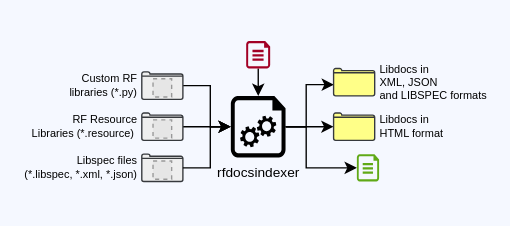
The diagram is 510 pixels wide and 226 high, and some of its shapes have lost their labels. Grey dashed boxes stand in for pictures. Each missing label, with the centre of its shape:
"HTML index file" belongs at pixel 367 167.
"TOML config file" belongs at pixel 257 54.
